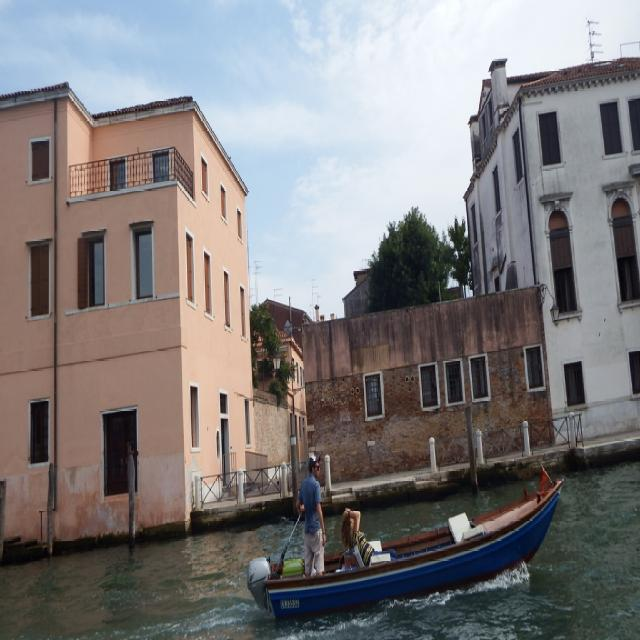Boat: (254, 490, 544, 619)
